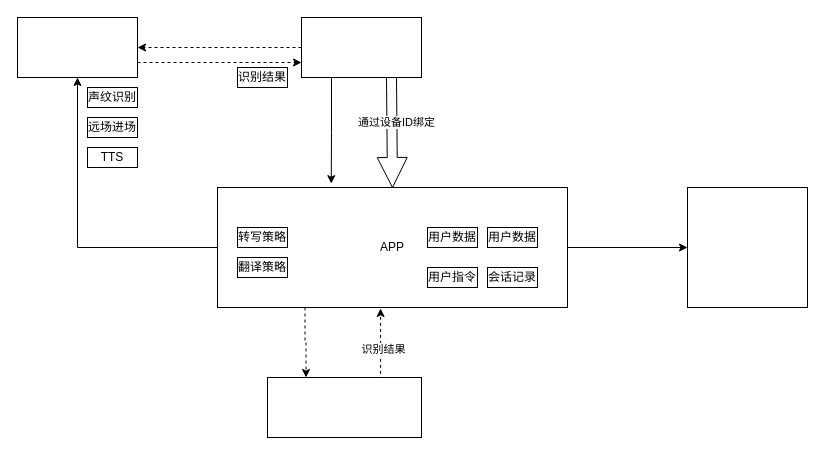
The diagram is 825 pixels wide and 455 high, and some of its shapes have lost their labels. Here are the shapes that lost their labels. From the top down, the centre of each, then its label:
the point at 77,47: IDL 云端计算
the point at 361,47: 智能眼镜
the point at 747,247: 服务端 业务模型 业务存储
the point at 344,407: 离线模型
